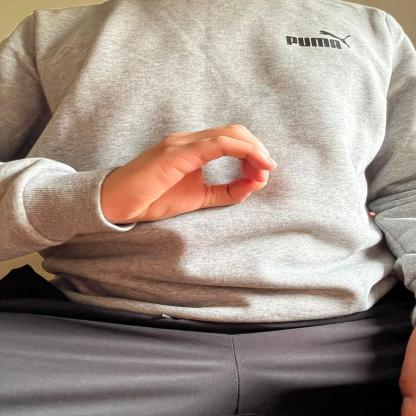O: (111, 107, 276, 223)
